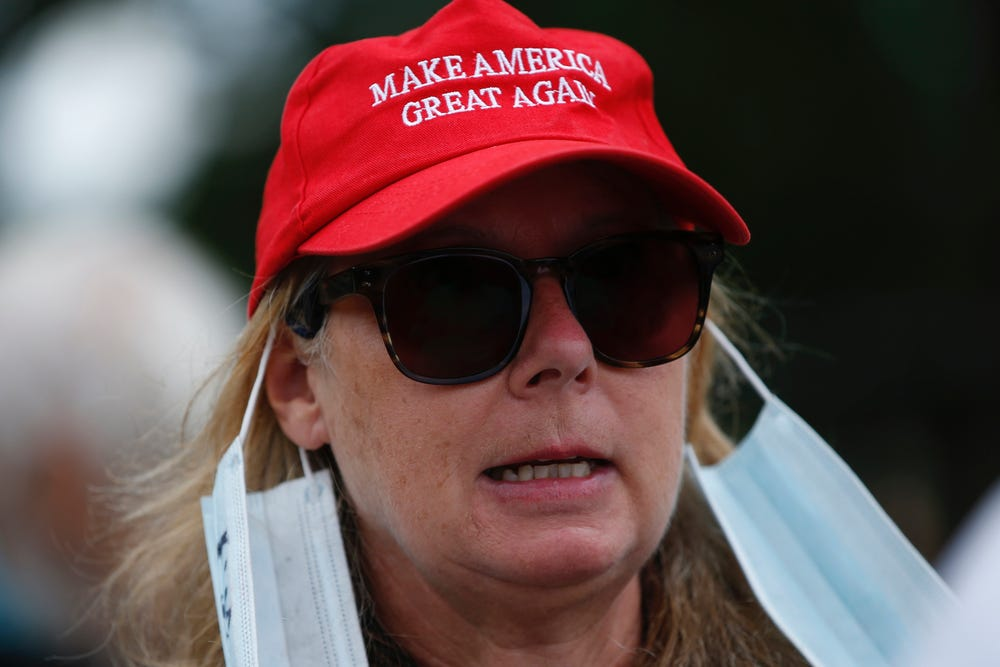without_mask: (345, 197, 694, 552)
